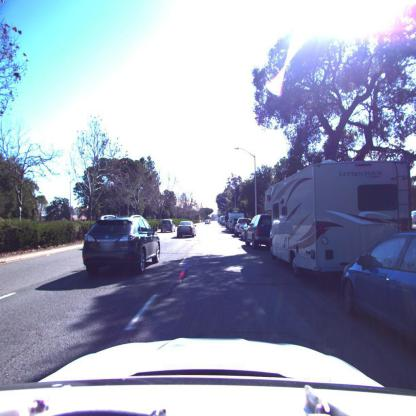bus: (266, 159, 414, 277)
car: (340, 229, 416, 379), (81, 216, 161, 277), (246, 215, 273, 250), (233, 218, 252, 238), (176, 222, 197, 238), (228, 213, 245, 231), (161, 220, 176, 233), (219, 214, 228, 229), (204, 219, 211, 226)
